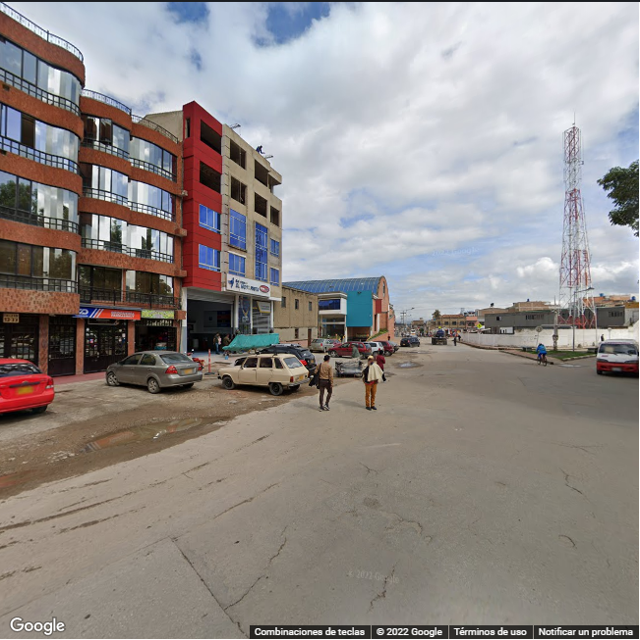D00: (224, 533, 291, 608), (371, 558, 397, 606)
D10: (173, 534, 244, 633), (400, 520, 433, 544)
